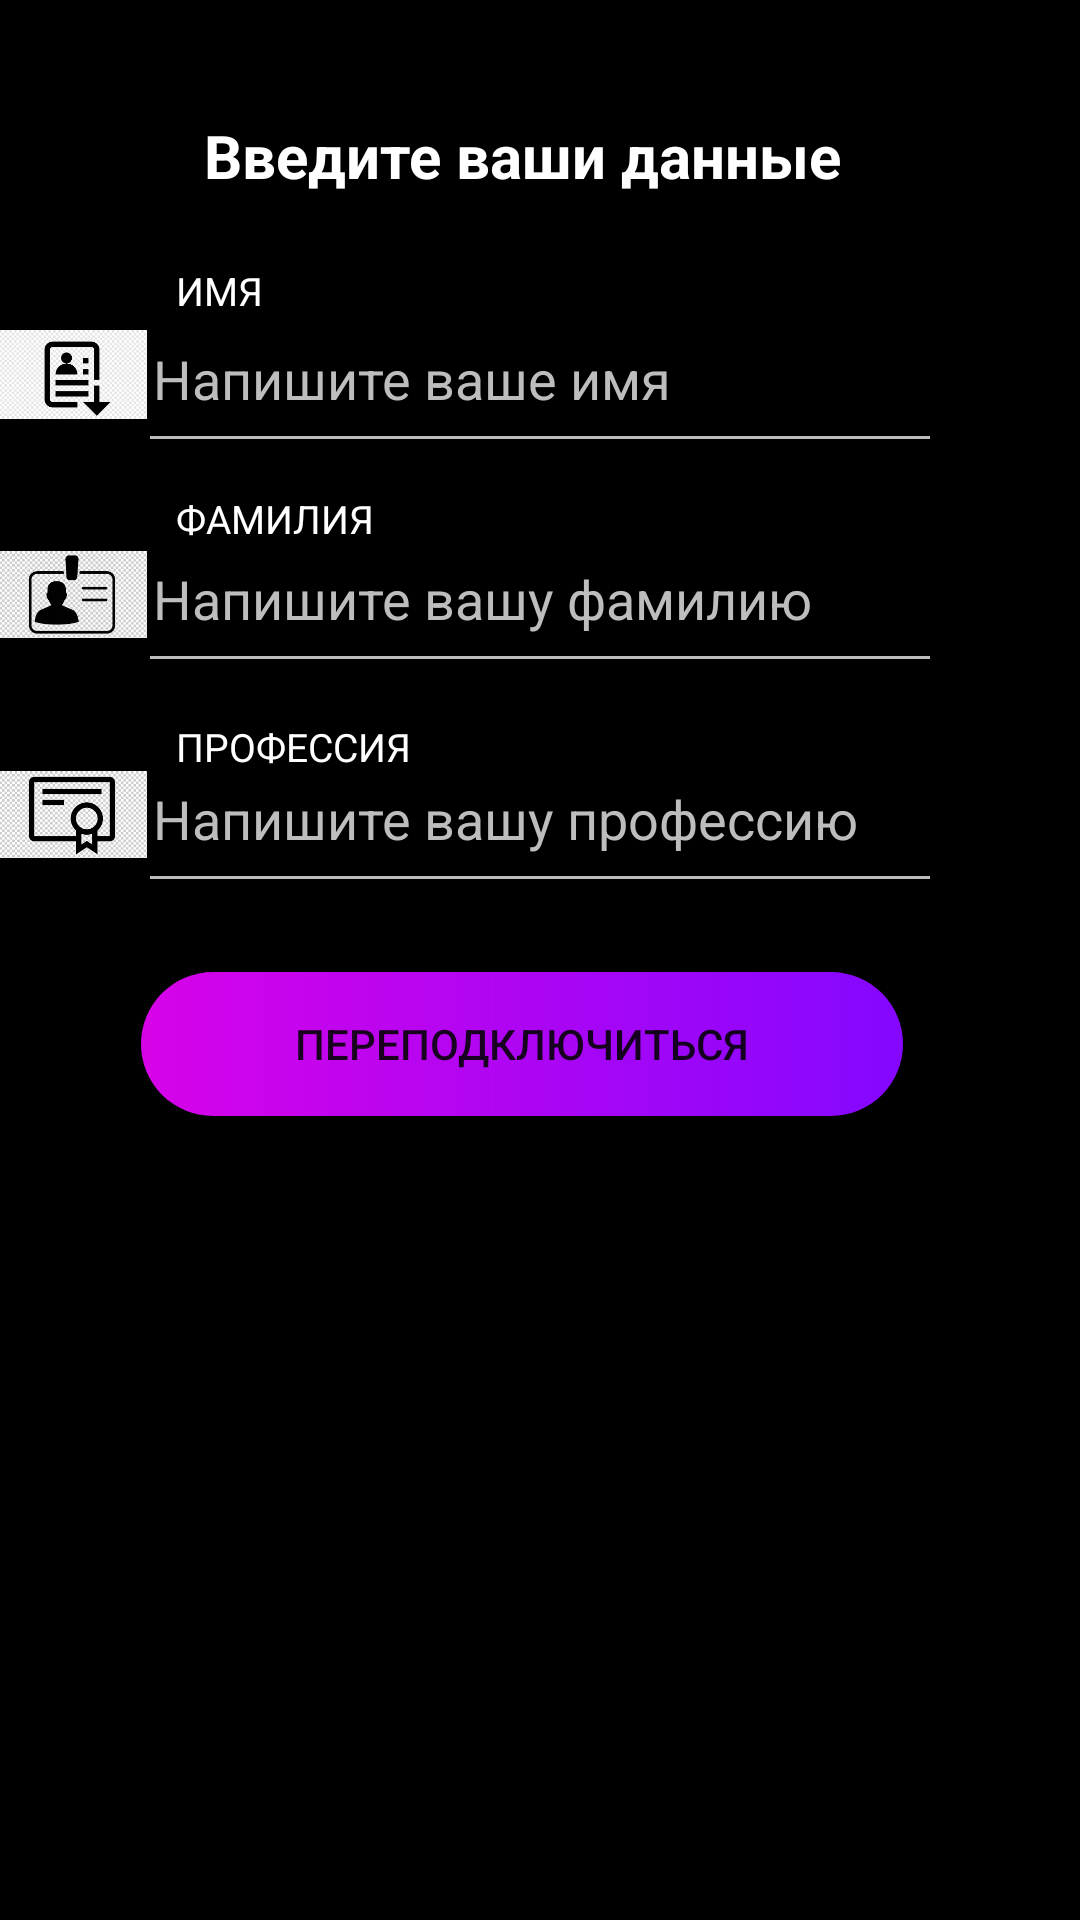

Named icons in this screenshot (1080px x 1920px) and their bounding boxes, (x1, y1, x2, y2):
last name: (0, 551, 147, 638)
profession: (0, 771, 147, 858)
